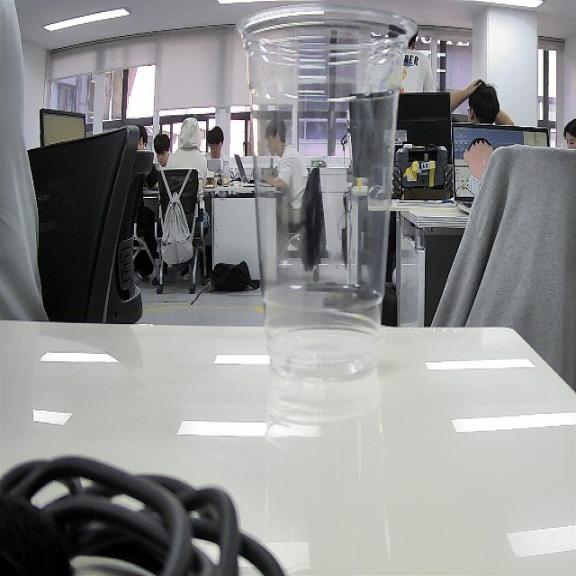Plastik: (237, 4, 416, 379)
